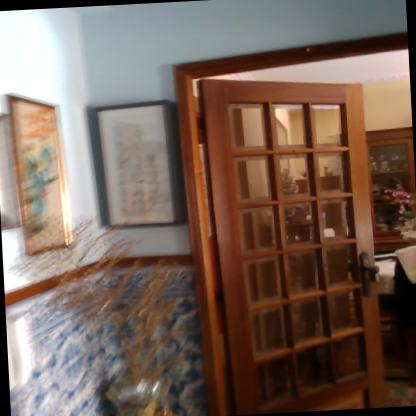semi: (165, 30, 416, 411)
